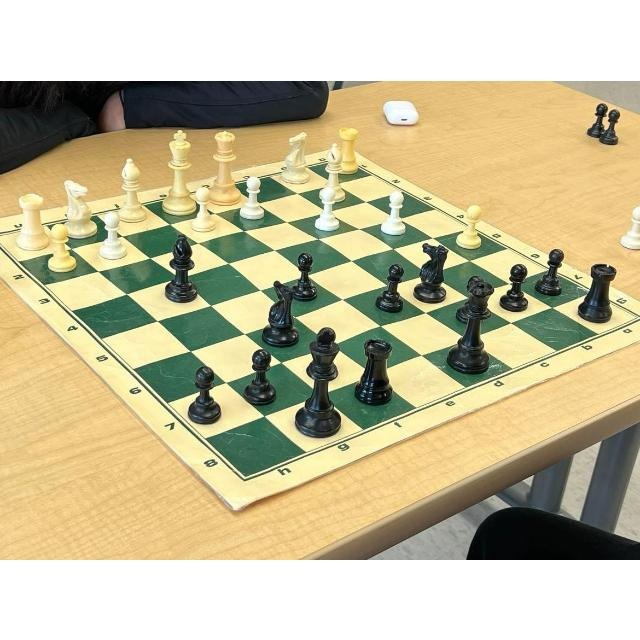black-bishop: (162, 229, 203, 303)
black-king: (294, 326, 346, 438)
black-knight: (255, 277, 305, 347), (411, 240, 450, 302)
black-pawn: (184, 365, 226, 425), (239, 345, 280, 406), (452, 272, 493, 324), (372, 260, 412, 312), (306, 325, 342, 379), (534, 244, 568, 299), (498, 262, 534, 312), (288, 250, 321, 301)
black-queen: (443, 277, 497, 373)
black-rook: (353, 333, 396, 404), (577, 258, 619, 323)
white-bishop: (108, 149, 155, 225), (316, 138, 352, 201)
white-king: (159, 126, 198, 214)
white-knight: (52, 174, 102, 240), (277, 130, 313, 184)
white-pawn: (95, 208, 130, 260), (46, 221, 77, 274), (185, 184, 221, 229), (236, 172, 269, 221), (454, 201, 486, 248), (313, 184, 344, 232), (381, 188, 411, 236)
white-queen: (205, 128, 242, 204)
white-rook: (12, 189, 53, 253), (330, 122, 364, 174)
